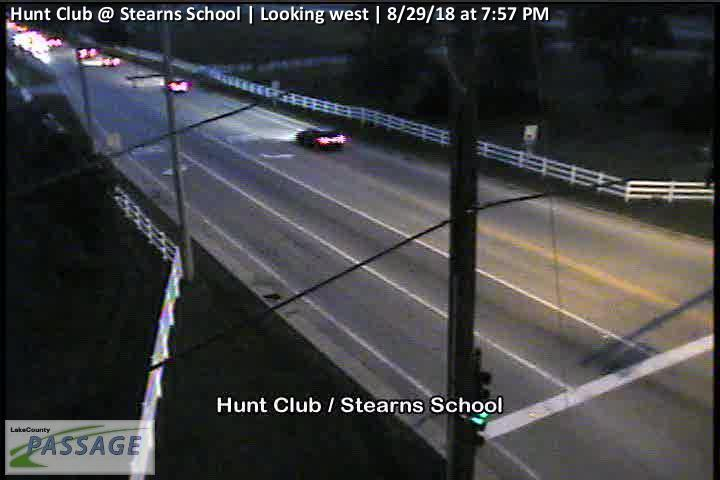Sedan: (294, 127, 347, 151), (165, 78, 191, 93)
